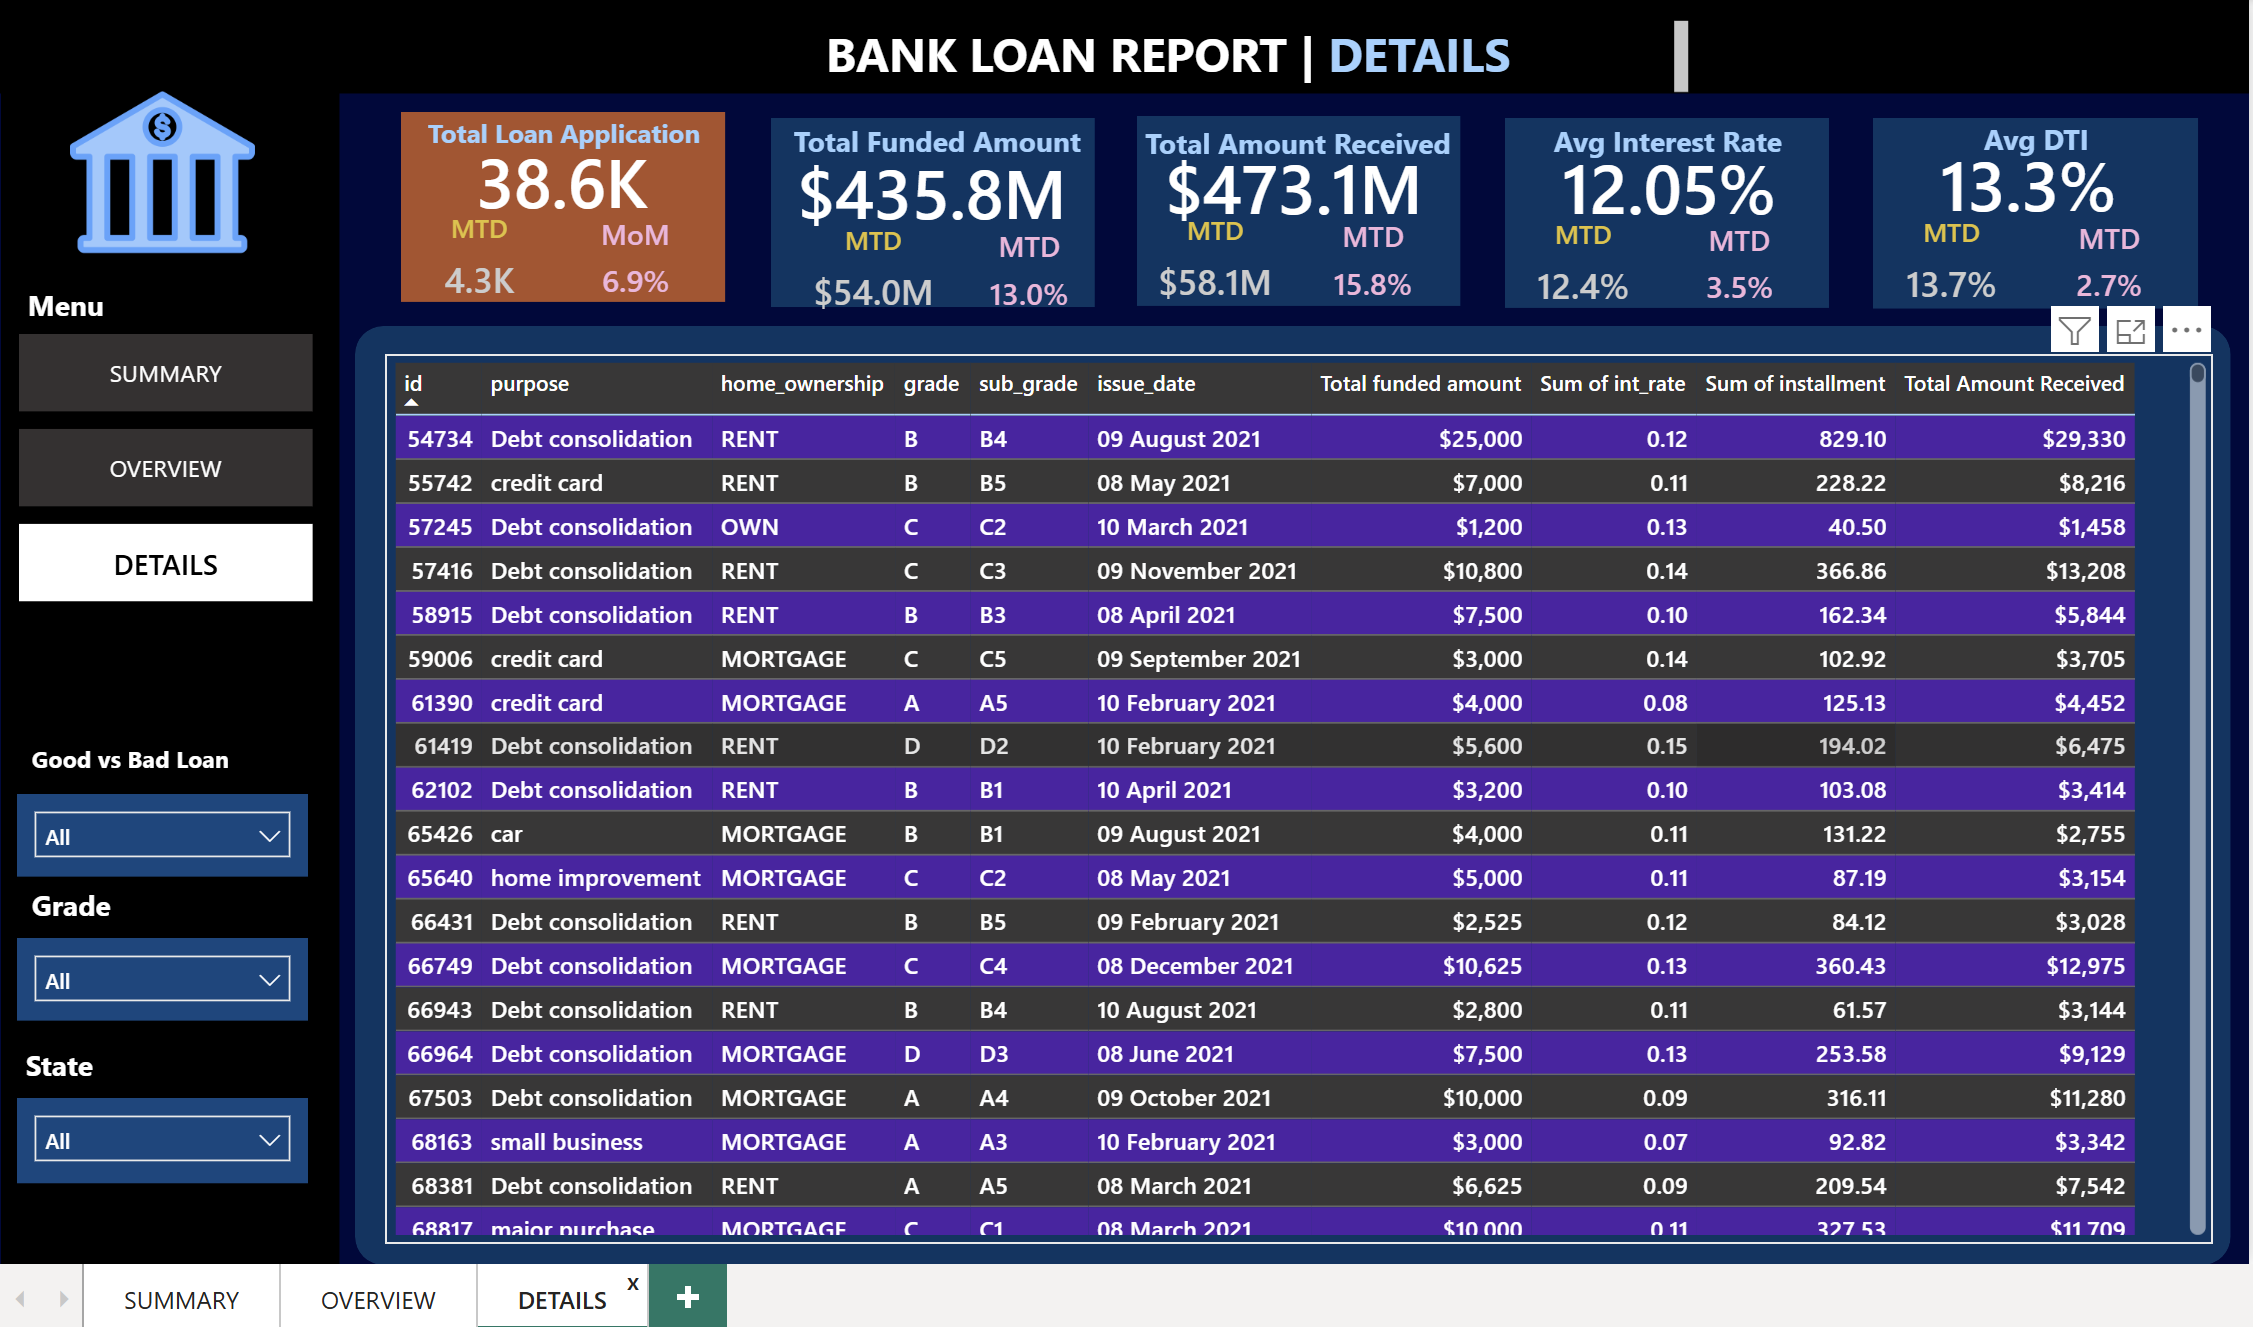

The page's visual inventory and layout, read from the dashboard file:
{"tool":"powerbi","page":{"name":"DETAILS","canvas":[1280,720],"ordinal":2},"visuals":[{"type":"shape","box":[228.5,65.1,184.5,108.1],"z":0,"group":"g1"},{"type":"shape","box":[647.4,66.5,184.2,108.2],"z":0,"group":"g2"},{"type":"shape","box":[438.5,67.9,184.4,107.6],"z":0,"group":"g3"},{"type":"shape","box":[856.7,68.1,184.4,108.1],"z":0,"group":"g4"},{"type":"shape","box":[1065.8,69.1,184.9,108.4],"z":0,"group":"g5"},{"type":"shape","box":[202.7,186.1,1067.1,534.2],"z":0},{"type":"shape","box":[1.3,53.5,192.5,666.8],"z":1000},{"type":"card","fields":{"Values":["financial_loan.Total Loan Applications"]},"box":[258.6,75.7,124.2,58.7],"z":1000,"group":"g1"},{"type":"card","fields":{"Values":["financial_loan.Avg Interest rate"]},"box":[879.9,79.1,141.5,56.1],"z":1000,"group":"g4"},{"type":"card","fields":{"Values":["financial_loan.Avg DTI"]},"box":[1089.1,79.3,131.6,55.2],"z":1000,"group":"g5"},{"type":"card","fields":{"Values":["financial_loan.Total Amount Received"]},"box":[653.6,80.2,164.5,53.5],"z":1000,"group":"g2"},{"type":"card","fields":{"Values":["financial_loan.Total funded amount"]},"box":[426.7,81.5,207.8,57.4],"z":1000,"group":"g3"},{"type":"shape","box":[0,0,1280,54.3],"z":2000},{"type":"textbox","box":[210.4,61.6,221.8,31.7],"z":2000,"group":"g1"},{"type":"textbox","box":[1048,64,222.2,31.7],"z":2000,"group":"g5"},{"type":"textbox","box":[838.6,64.6,221.7,31.7],"z":2000,"group":"g4"},{"type":"textbox","box":[426.2,65,214.2,34.4],"z":2000,"group":"g3"},{"type":"textbox","box":[627.7,65.6,221.8,31.9],"z":2000,"group":"g2"},{"type":"textbox","box":[465.2,8,500.5,63.7],"z":3000},{"type":"card","title":"MTD","fields":{"Values":["financial_loan.MTD Loan Application"]},"box":[229.7,120.3,86.8,63.4],"z":3000,"group":"g1"},{"type":"card","title":"MTD","fields":{"Values":["financial_loan.MTD Total Amount Recieved"]},"box":[648.6,121.7,86.7,63.5],"z":3000,"group":"g2"},{"type":"card","title":"MTD","fields":{"Values":["financial_loan.MTD AvgE DTI"]},"box":[1067.3,122.7,86.9,63.4],"z":3000,"group":"g5"},{"type":"card","title":"MTD","fields":{"Values":["financial_loan.MTD Avg Interest rate"]},"box":[857.9,123.3,86.8,63.4],"z":3000,"group":"g4"},{"type":"card","title":"MTD","fields":{"Values":["financial_loan.MTD Funded Amount"]},"box":[453.4,127.1,86.8,63.2],"z":3000,"group":"g3"},{"type":"group","id":"g1","title":"Group 1","box":[210.4,61.6,222,122],"z":4000},{"type":"card","title":"MoM","fields":{"Values":["financial_loan.MoM Loan Applications"]},"box":[318.9,122.7,86.8,58.7],"z":4000,"group":"g1"},{"type":"card","title":"MTD","fields":{"Values":["financial_loan.MoM Total Amount recieved"]},"box":[737.7,124.1,86.7,58.8],"z":4000,"group":"g2"},{"type":"card","title":"MTD","fields":{"Values":["financial_loan.MoM Avg DTI"]},"box":[1156.7,125.1,86.9,58.7],"z":4000,"group":"g5"},{"type":"card","title":"MTD","fields":{"Values":["financial_loan.MoM Avg interest"]},"box":[947,125.7,86.8,58.7],"z":4000,"group":"g4"},{"type":"card","title":"MTD","fields":{"Values":["financial_loan.MoM Total Funded Amount"]},"box":[542.5,129.4,86.8,58.5],"z":4000,"group":"g3"},{"type":"group","id":"g2","title":"Group 1","box":[627.7,65.6,221.8,119.7],"z":5000},{"type":"group","id":"g3","title":"Group 1","box":[426.2,65,214.2,125.3],"z":6000},{"type":"group","id":"g4","title":"Group 1","box":[838.6,64.6,221.7,122.2],"z":7000},{"type":"group","id":"g5","title":"Group 1","box":[1048,64,221.8,122.4],"z":8000},{"type":"slicer","fields":{"Values":["financial_loan.Good vs Bad loan "]},"box":[10.2,452.6,165.7,47.2],"z":9000},{"type":"textbox","box":[14,418.2,145.3,34.4],"z":10000},{"type":"slicer","fields":{"Values":["financial_loan.grade"]},"box":[10.2,534.2,165.7,47.2],"z":11000},{"type":"textbox","box":[10.2,590.3,102,35.7],"z":12000},{"type":"textbox","box":[14,499.8,88,34.4],"z":13000},{"type":"slicer","fields":{"Values":["financial_loan.address_state"]},"box":[10.2,626,165.7,48.4],"z":14000},{"type":"tableEx","fields":{"Values":["financial_loan.id","financial_loan.purpose","financial_loan.home_ownership","financial_loan.grade","financial_loan.sub_grade","financial_loan.issue_date","financial_loan.Total funded amount","Sum(financial_loan.int_rate)","Sum(financial_loan.installment)","financial_loan.Total Amount Received"]},"box":[219.3,202.7,1040.3,506.1],"z":15000},{"type":"pageNavigator","box":[11.5,191.2,167,154.3],"z":16000},{"type":"textbox","box":[11.5,158.1,88,34.4],"z":17000},{"type":"image","box":[17.8,39.5,149.2,118.6],"z":18000}]}

Visuals, with their boxes on the page's 1280x720 design canvas (x1, y1, x2, y2). These are canvas units, not pixel positions in the 2253x1327 screenshot, which may show the page scaled, cropped or inside an application window:
shape: (228,65,413,173)
shape: (647,66,832,175)
shape: (438,68,623,176)
shape: (857,68,1041,176)
shape: (1066,69,1251,178)
shape: (203,186,1270,720)
shape: (1,54,194,720)
card - financial_loan.Total Loan Applications: (259,76,383,134)
card - financial_loan.Avg Interest rate: (880,79,1021,135)
card - financial_loan.Avg DTI: (1089,79,1221,134)
card - financial_loan.Total Amount Received: (654,80,818,134)
card - financial_loan.Total funded amount: (427,82,634,139)
shape: (0,0,1280,54)
textbox: (210,62,432,93)
textbox: (1048,64,1270,96)
textbox: (839,65,1060,96)
textbox: (426,65,640,99)
textbox: (628,66,850,98)
textbox: (465,8,966,72)
"MTD" card: (230,120,316,184)
"MTD" card: (649,122,735,185)
"MTD" card: (1067,123,1154,186)
"MTD" card: (858,123,945,187)
"MTD" card: (453,127,540,190)
"Group 1" group: (210,62,432,184)
"MoM" card: (319,123,406,181)
"MTD" card: (738,124,824,183)
"MTD" card: (1157,125,1244,184)
"MTD" card: (947,126,1034,184)
"MTD" card: (542,129,629,188)
"Group 1" group: (628,66,850,185)
"Group 1" group: (426,65,640,190)
"Group 1" group: (839,65,1060,187)
"Group 1" group: (1048,64,1270,186)
slicer - financial_loan.Good vs Bad loan : (10,453,176,500)
textbox: (14,418,159,453)
slicer - financial_loan.grade: (10,534,176,581)
textbox: (10,590,112,626)
textbox: (14,500,102,534)
slicer - financial_loan.address_state: (10,626,176,674)
tableEx - financial_loan.id x financial_loan.purpose: (219,203,1260,709)
pageNavigator: (12,191,178,346)
textbox: (12,158,100,192)
image: (18,40,167,158)
